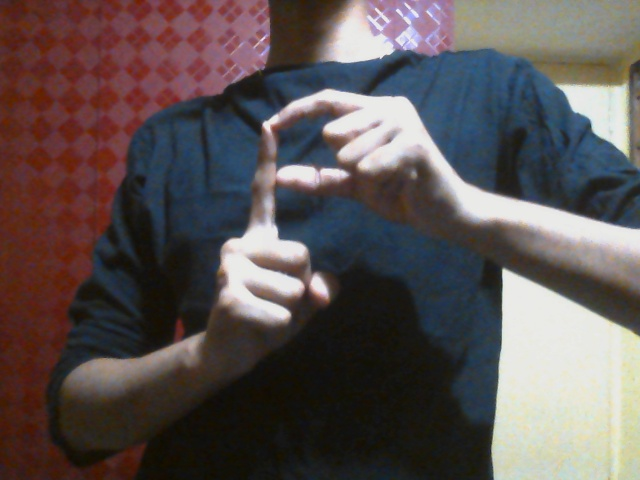P: (205, 88, 451, 369)
